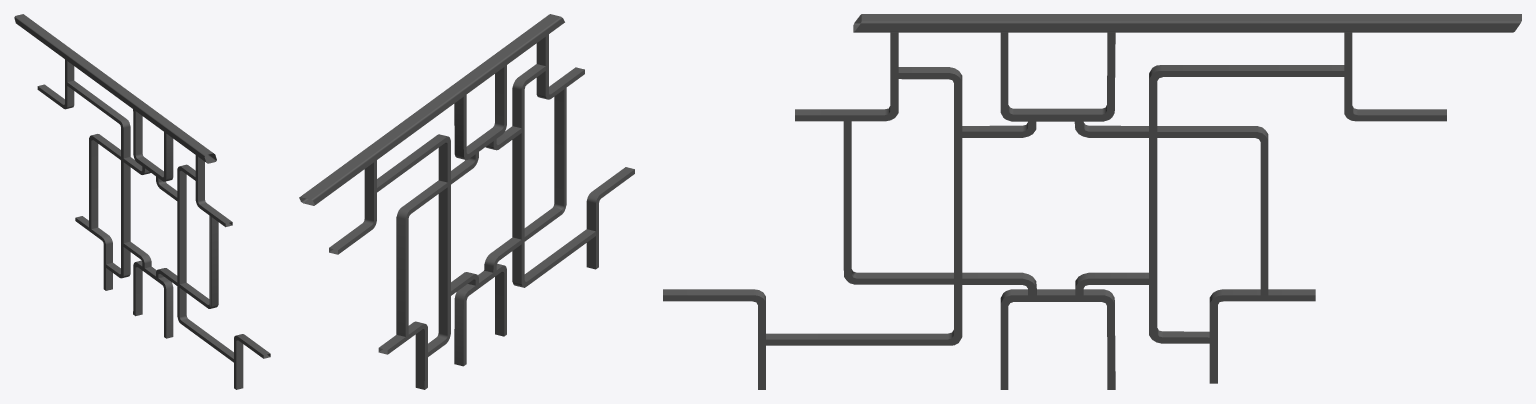
File: nt_2020_house_02_railing_01_section_LOD0.obj
3 renders of one model, left to right at view 1: azimuth 30°, elevation 25°; view 2: azimuth 150°, elevation 25°; view 3: azimuth 270°, elevation 25°, orthographic. The views are drawn at different scales.
Visible parts, largest first — view 1: nt_2020_metal_brushed; view 2: nt_2020_metal_brushed; view 3: nt_2020_metal_brushed.
Boxes of the visible parts, x1,y1,x2,y2 form: nt_2020_metal_brushed: (14,14,270,389); nt_2020_metal_brushed: (299,14,634,389); nt_2020_metal_brushed: (663,14,1521,389).
Bounding box in the file's own units: 2.42 × 45.97 × 96.89.
